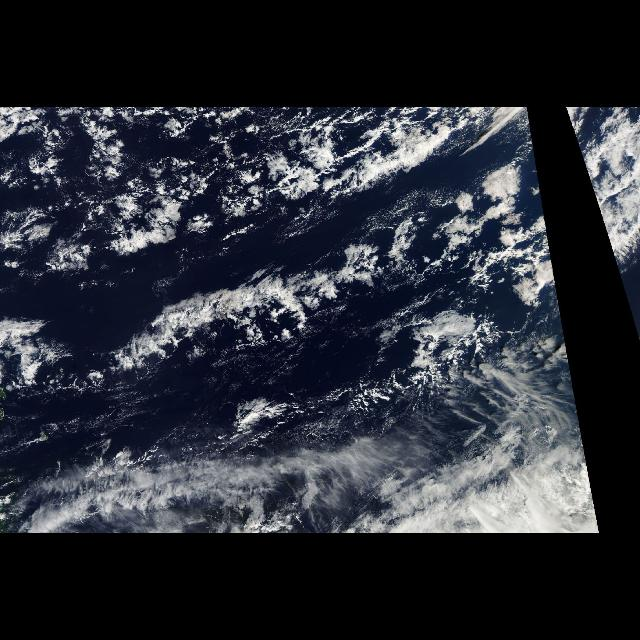Fish: (110, 170, 570, 392)
Flower: (98, 230, 490, 362)
Gravel: (46, 107, 264, 217)
